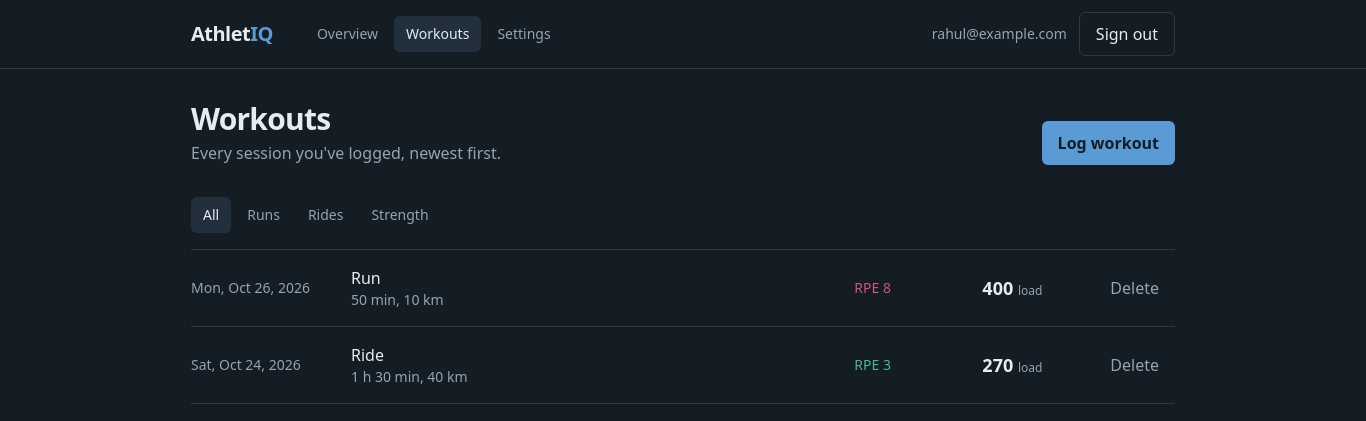
Test: WorkoutsPage › deletes after confirmation and removes the row
The image size is (1366, 421).
Expected: the list named "Workout history" is shown, [191,249,1175,404]
Click the button with aria-label "Delete run on Mon, Oct 26, 2026" at {"x": 1135, "y": 288}, box [1094,266,1175,310]
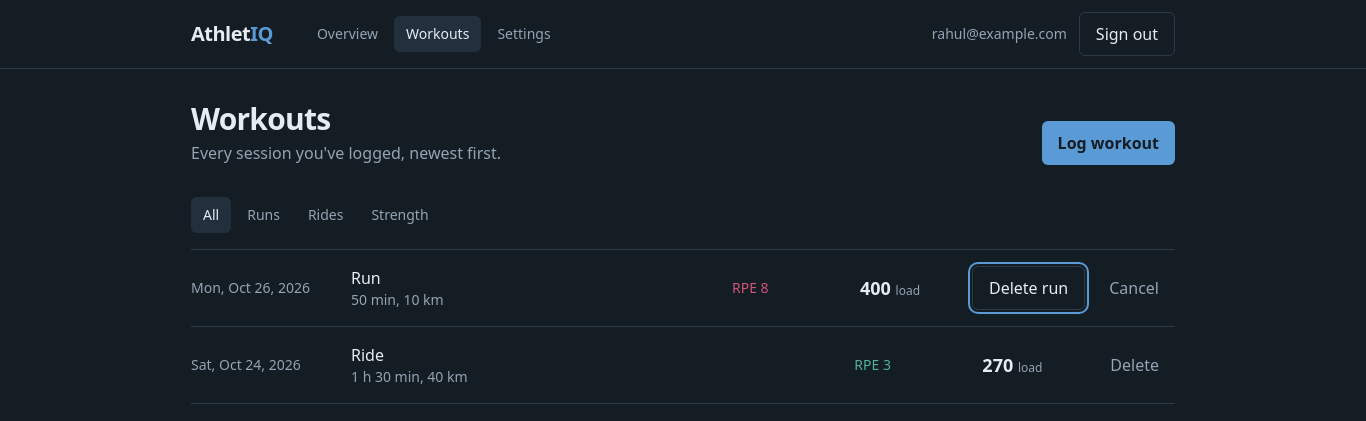
Click the button "Delete run" at {"x": 1029, "y": 288}, box [972,266,1085,310]
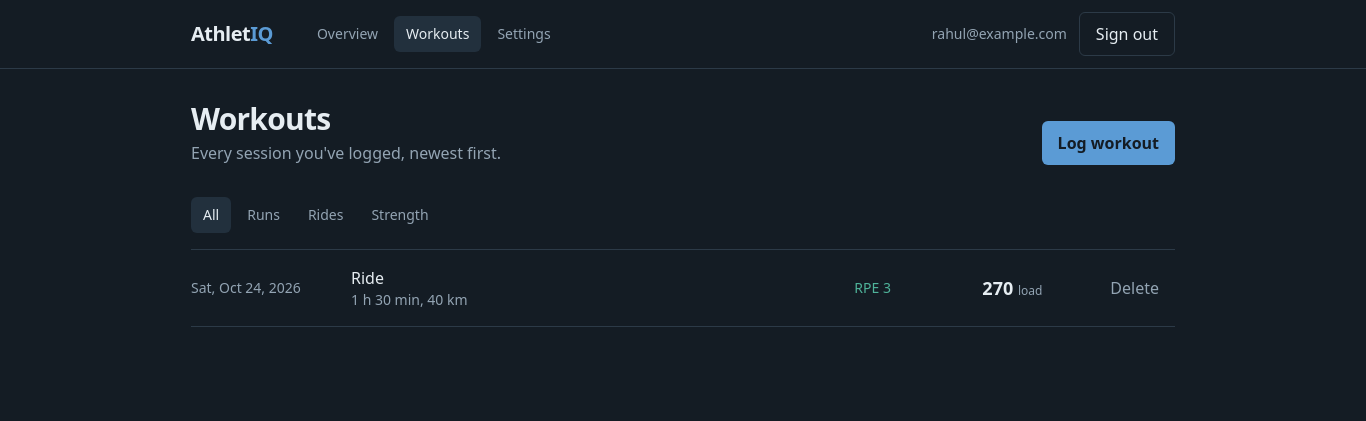
Result: the number of list items is 1 at [191,250,1175,327]
Result: the text "Mon, Oct 26, 2026" is gone
